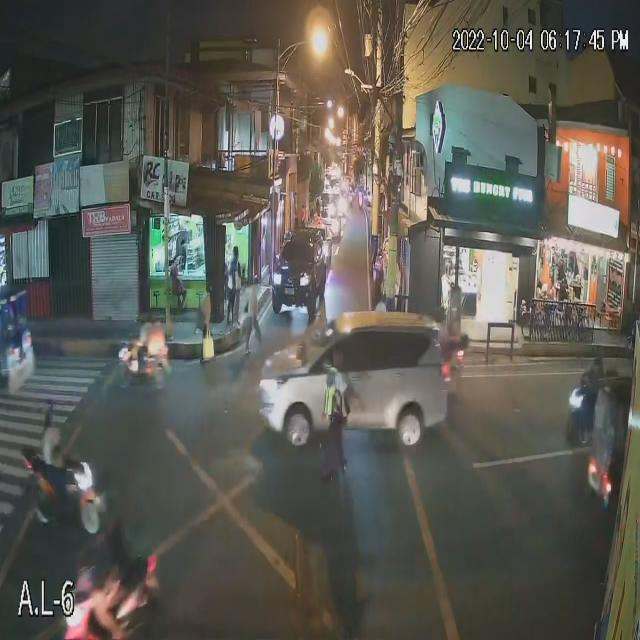motorcycle: (31, 464, 108, 523), (71, 587, 160, 638), (563, 394, 611, 443), (116, 348, 170, 386)
rider: (142, 325, 156, 366)
